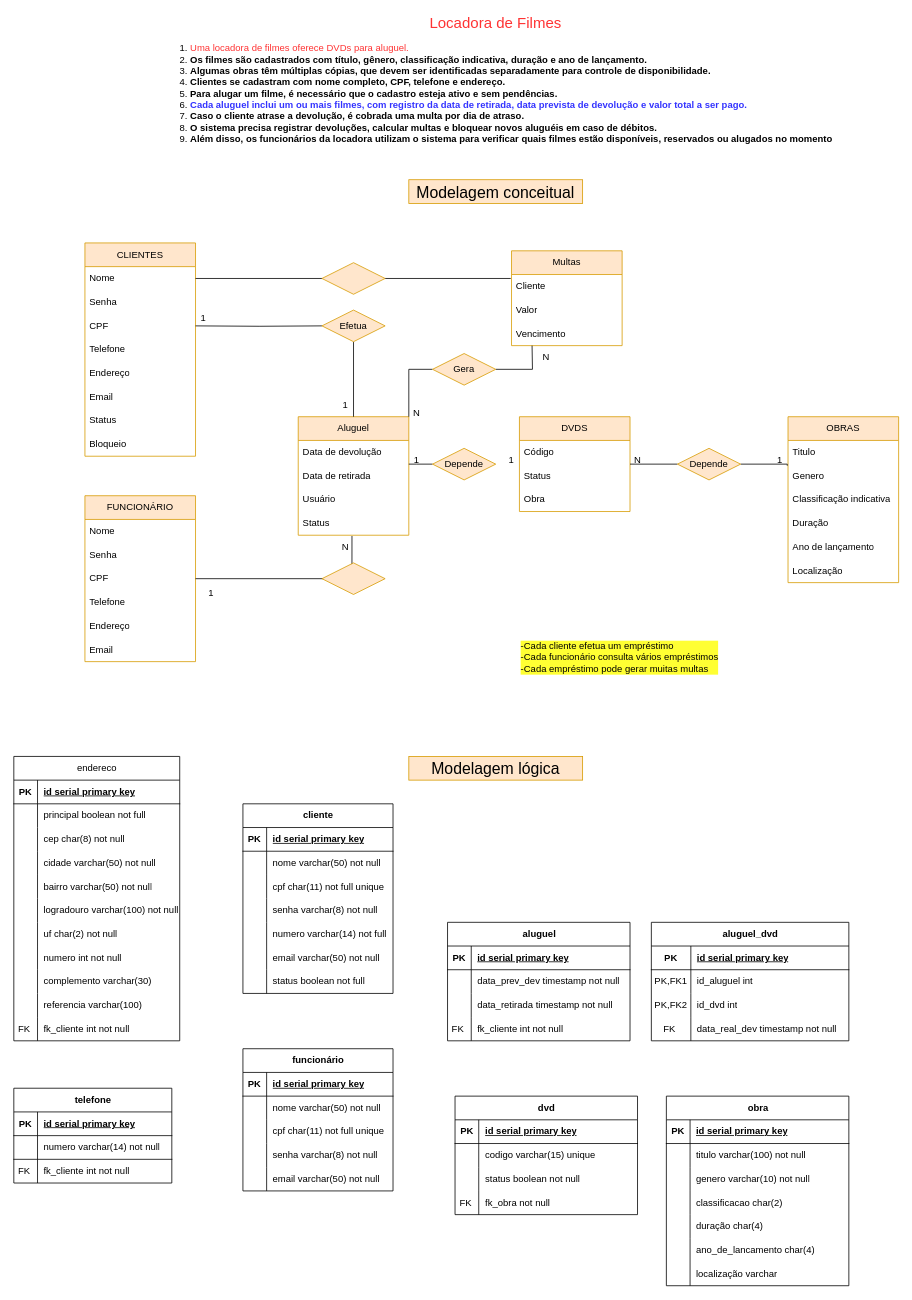
The diagram is 912 pixels wide and 1300 high, and some of its shapes have lost their labels. Here are the shapes that lost their labels. From the top down, the centre of each, then its label:
At (x=353, y=278): "Recebe".
At (x=353, y=578): "Consulta".
